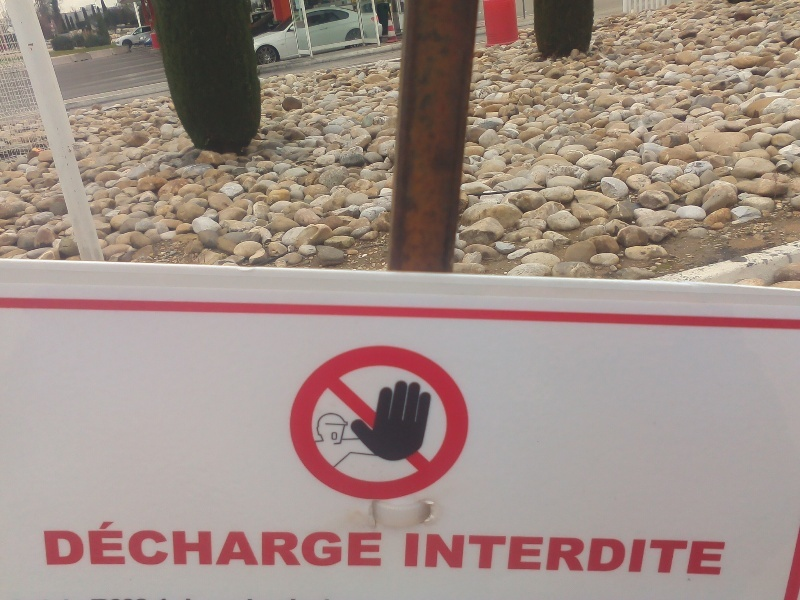text: (49, 520, 64, 567), (65, 520, 80, 567), (81, 520, 96, 567), (97, 520, 112, 567), (113, 520, 128, 567), (129, 520, 144, 567), (145, 520, 160, 567), (161, 520, 176, 567), (177, 520, 192, 567), (193, 520, 208, 567), (209, 520, 224, 567), (225, 520, 240, 567), (241, 520, 256, 567), (257, 520, 272, 567), (273, 520, 288, 567), (289, 520, 304, 567), (305, 520, 320, 567), (321, 520, 336, 567), (337, 520, 352, 567), (353, 520, 368, 567), (417, 532, 432, 577), (433, 532, 448, 577), (449, 532, 464, 577), (465, 532, 480, 577), (481, 532, 496, 577), (497, 532, 512, 577), (513, 532, 528, 577), (529, 532, 544, 577), (545, 532, 560, 577), (561, 532, 576, 577), (577, 532, 592, 577), (593, 532, 608, 577), (609, 532, 624, 577), (625, 532, 640, 577), (641, 532, 656, 577), (657, 532, 672, 577), (673, 532, 688, 577), (689, 532, 704, 577), (705, 532, 720, 577), (369, 520, 383, 567), (406, 532, 416, 577), (43, 520, 48, 567), (721, 532, 726, 577)
